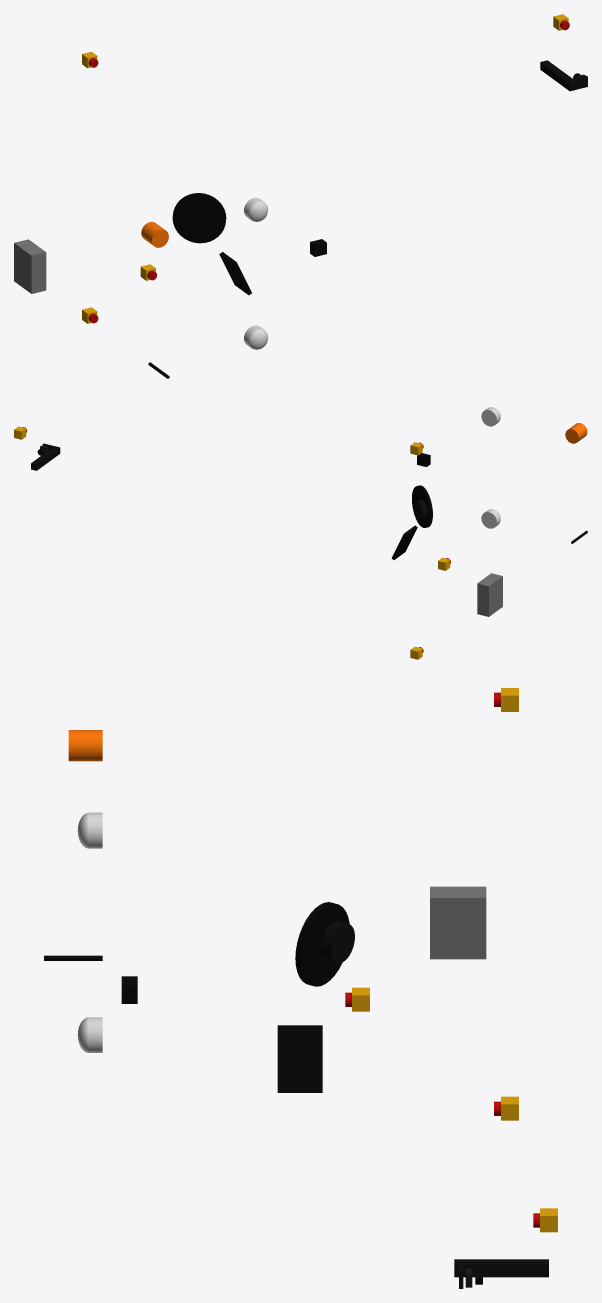
Rendered from kit.obj.
The picture shows the model from 3 angles, top to bottom: view 1: azimuth 30°, elevation 25°; view 2: azimuth 150°, elevation 25°; view 3: azimuth 270°, elevation 25°; orthographic projection. The views are drawn at different scales.
Parts seen in each view (by area): view 1: mf_7615_kit; view 2: mf_7615_kit; view 3: mf_7615_kit.
Part boxes in pixels (bbox=[...]): mf_7615_kit: bbox=[14, 14, 587, 378]; mf_7615_kit: bbox=[14, 407, 587, 659]; mf_7615_kit: bbox=[44, 688, 557, 1288].
Size of the model in its own units: 4.68 by 2.08 by 2.28.
